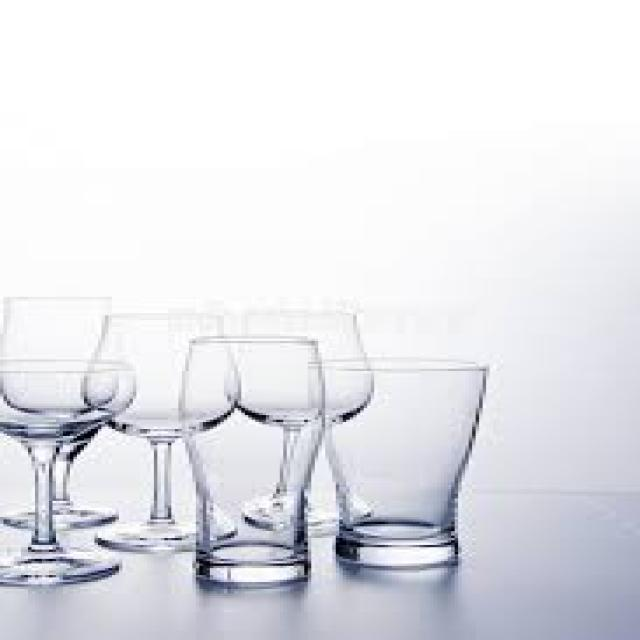glass: (81, 311, 235, 547), (311, 357, 486, 564), (178, 337, 322, 585), (224, 311, 367, 536), (0, 359, 126, 582), (0, 294, 115, 526)
